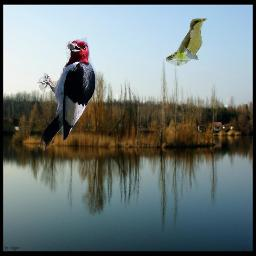Cuckoo: (166, 17, 208, 66)
Woodpecker: (35, 33, 97, 154)
